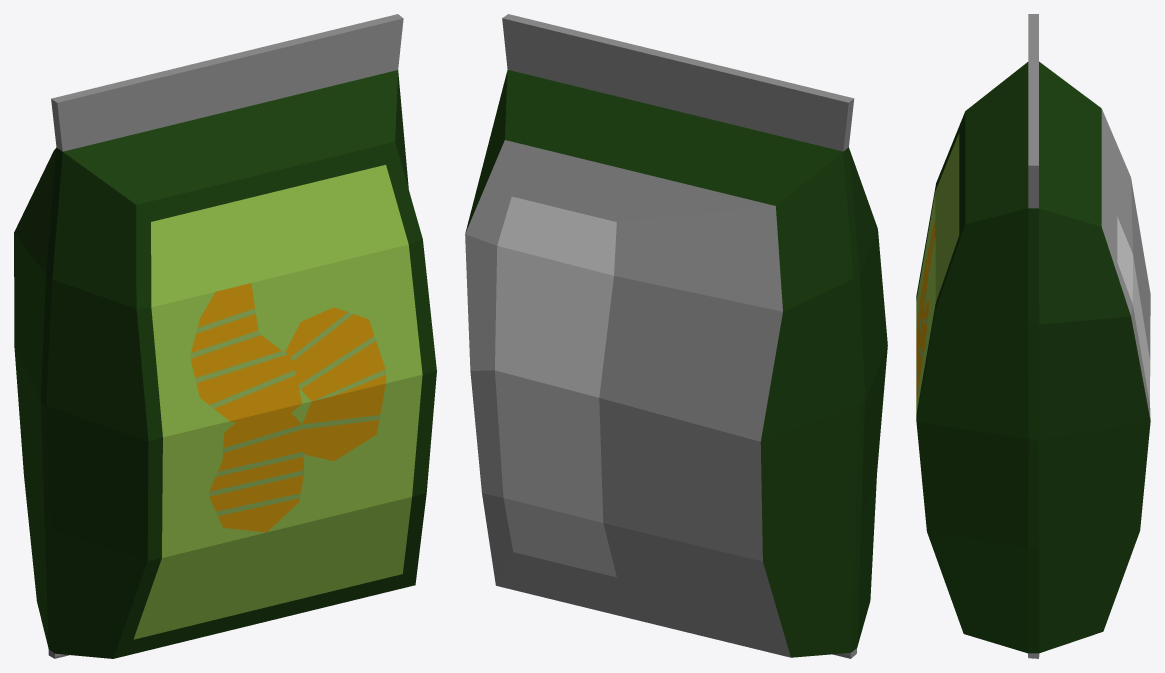
File: Dill Pickle Potato Chips Large.fbx
3 renders of one model, left to right at view 1: azimuth 30°, elevation 25°; view 2: azimuth 150°, elevation 25°; view 3: azimuth 270°, elevation 25°, orthographic. The views are drawn at different scales.
Visible parts, largest first — view 1: Dill Pickle Potato Chips Large; view 2: Dill Pickle Potato Chips Large; view 3: Dill Pickle Potato Chips Large.
Boxes of the visible parts, <box> form: Dill Pickle Potato Chips Large: <box>14,14,436,658</box>; Dill Pickle Potato Chips Large: <box>465,14,887,658</box>; Dill Pickle Potato Chips Large: <box>916,14,1150,658</box>.
Bounding box in the file's own units: 38.31 × 55.33 × 23.57.
Materials: 1 (1 with a texture image).
